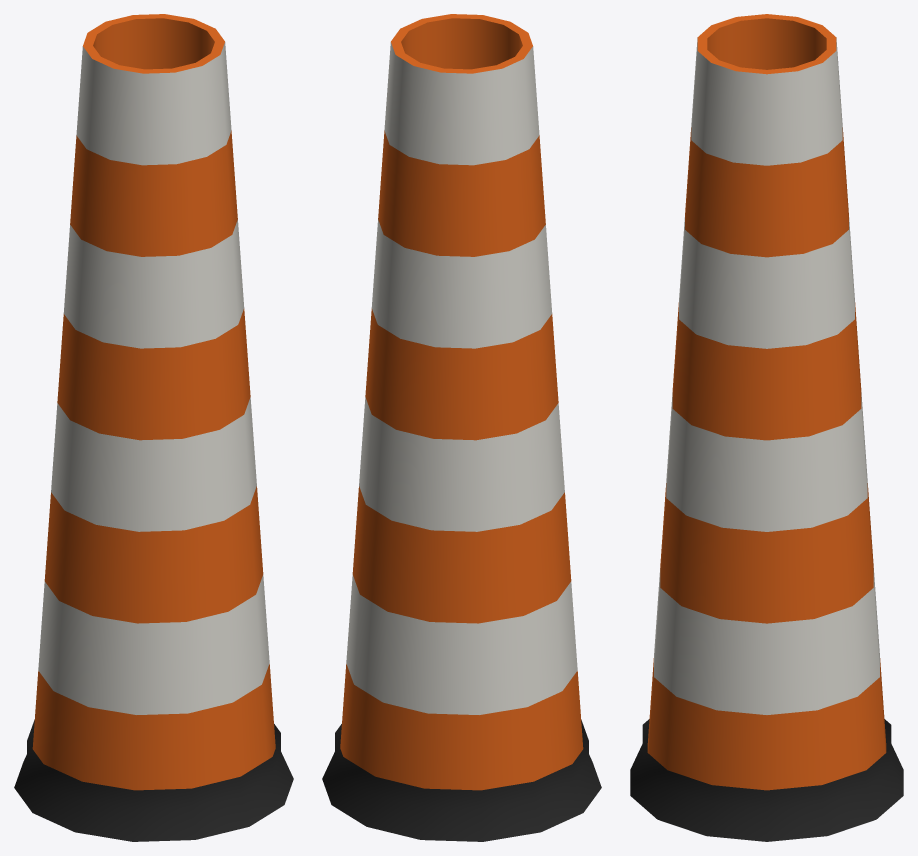
File: nyc_steam_stack.glb
The picture shows the model from 3 angles, left to right: view 1: azimuth 30°, elevation 25°; view 2: azimuth 150°, elevation 25°; view 3: azimuth 270°, elevation 25°; orthographic projection.
Parts seen in each view (by area): view 1: nyc_steam_stack; view 2: nyc_steam_stack; view 3: nyc_steam_stack.
Part boxes in pixels (<box>): nyc_steam_stack: <box>14,14,293,841</box>; nyc_steam_stack: <box>322,14,601,841</box>; nyc_steam_stack: <box>630,14,903,841</box>.
Size of the model in its own units: 1.1 by 3.2 by 1.07.
1 material, 1 textured.
